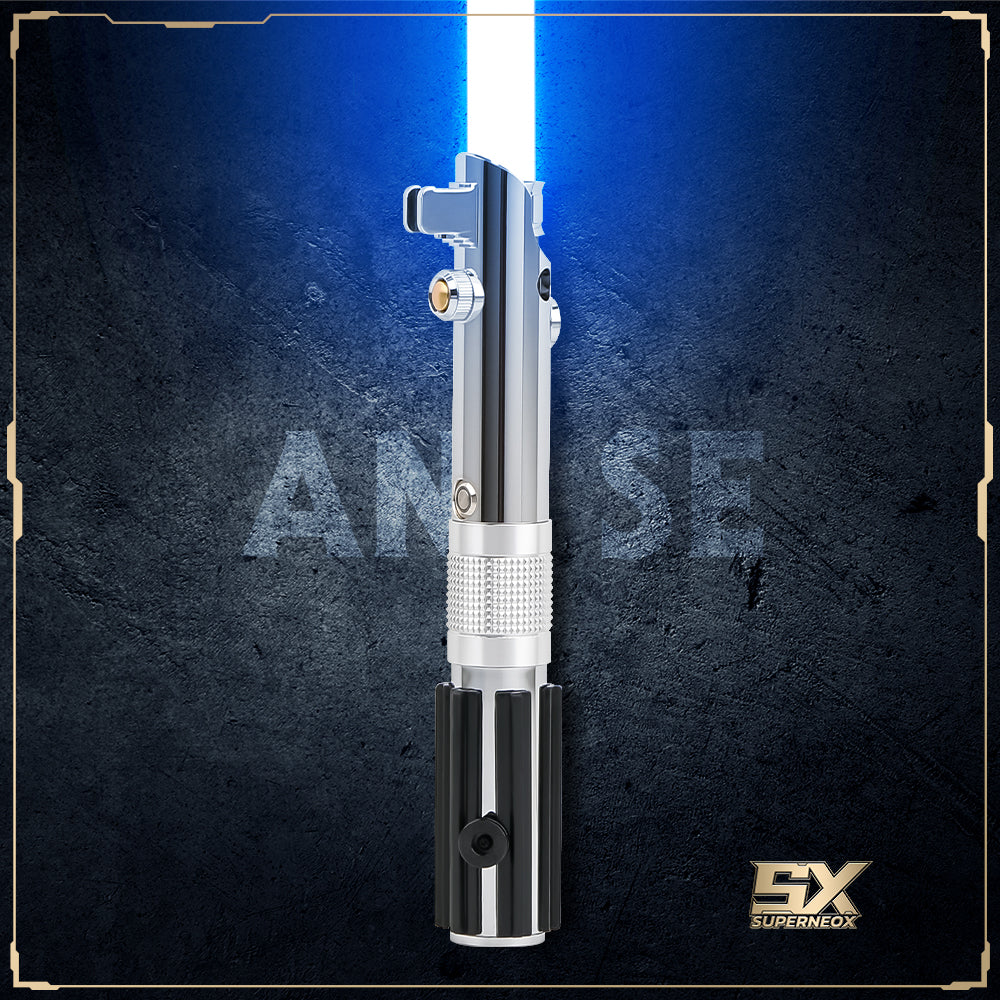lightsaber: (407, 0, 605, 997)
